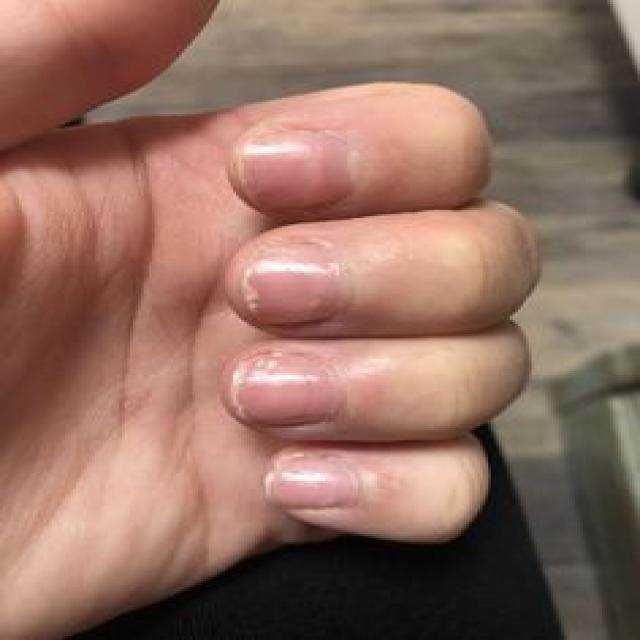Fingernail: (240, 130, 352, 212), (241, 244, 342, 325), (232, 352, 339, 428), (265, 456, 360, 509)
